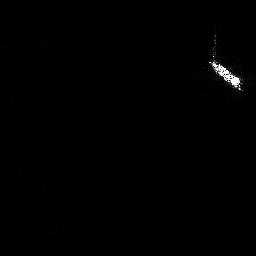ship: (206, 54, 247, 95)
